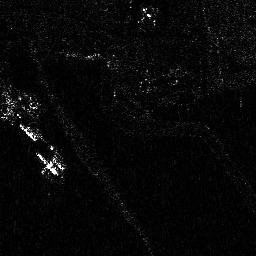ship: (37, 152, 59, 176), (18, 123, 37, 140)
